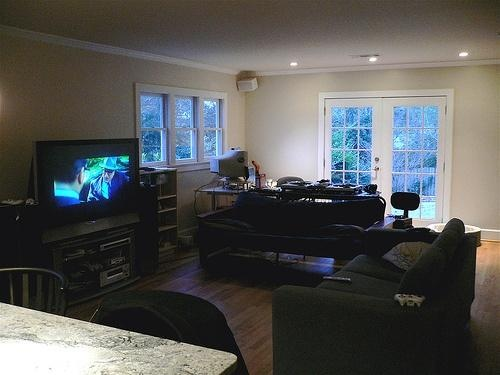chair: (92, 291, 249, 375), (1, 269, 67, 316), (392, 194, 419, 217)
diningtable: (1, 303, 238, 375)
sofa: (274, 218, 478, 374), (198, 192, 385, 258)
tvmonitor: (35, 141, 142, 243), (211, 150, 250, 190)
